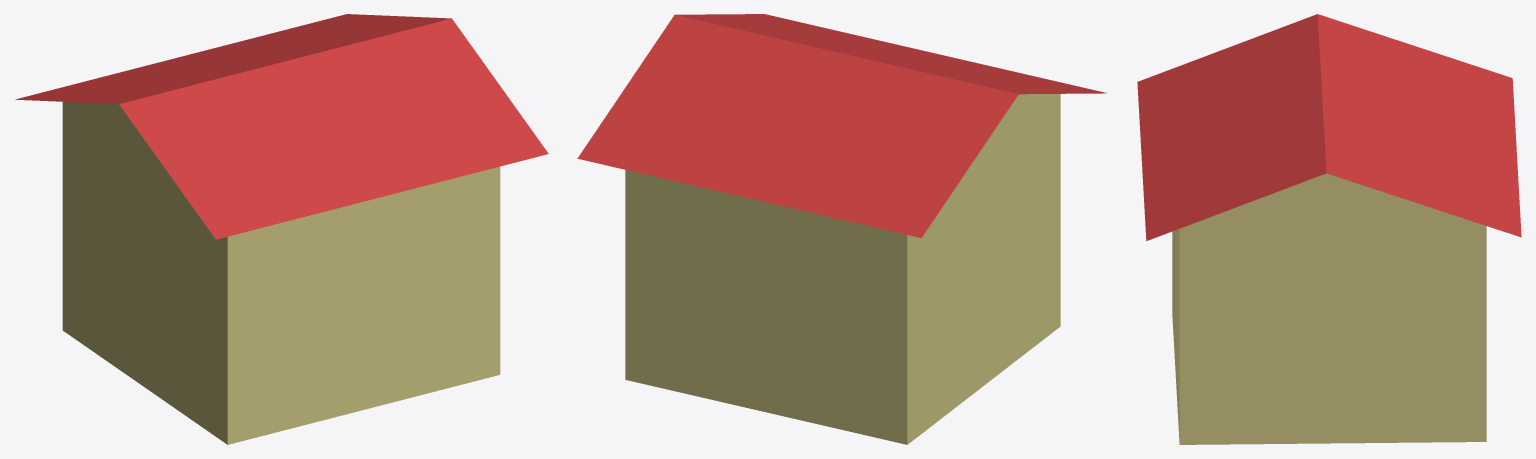
3 views of the same model, side by side, from view 1: azimuth 30°, elevation 25°; view 2: azimuth 150°, elevation 25°; view 3: azimuth 270°, elevation 25° (orthographic). The views are drawn at different scales.
Size of the model in its own units: 8.48 by 8.44 by 6.9.
